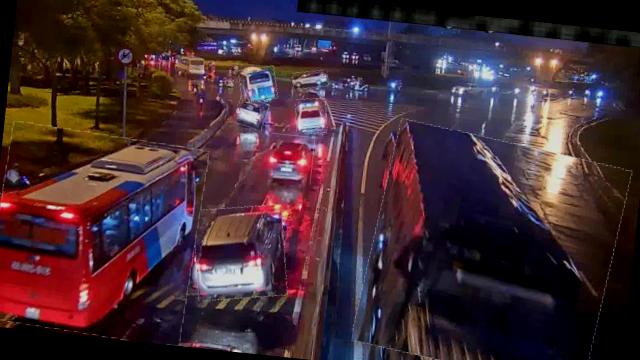Bus: (0, 123, 207, 347), (236, 64, 278, 104), (176, 55, 207, 76)
Car: (188, 200, 292, 306), (266, 134, 316, 184), (292, 96, 329, 135), (234, 97, 269, 130), (292, 69, 330, 92)
Truck: (354, 122, 627, 360)
